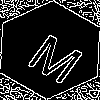M: (25, 25, 92, 86)
